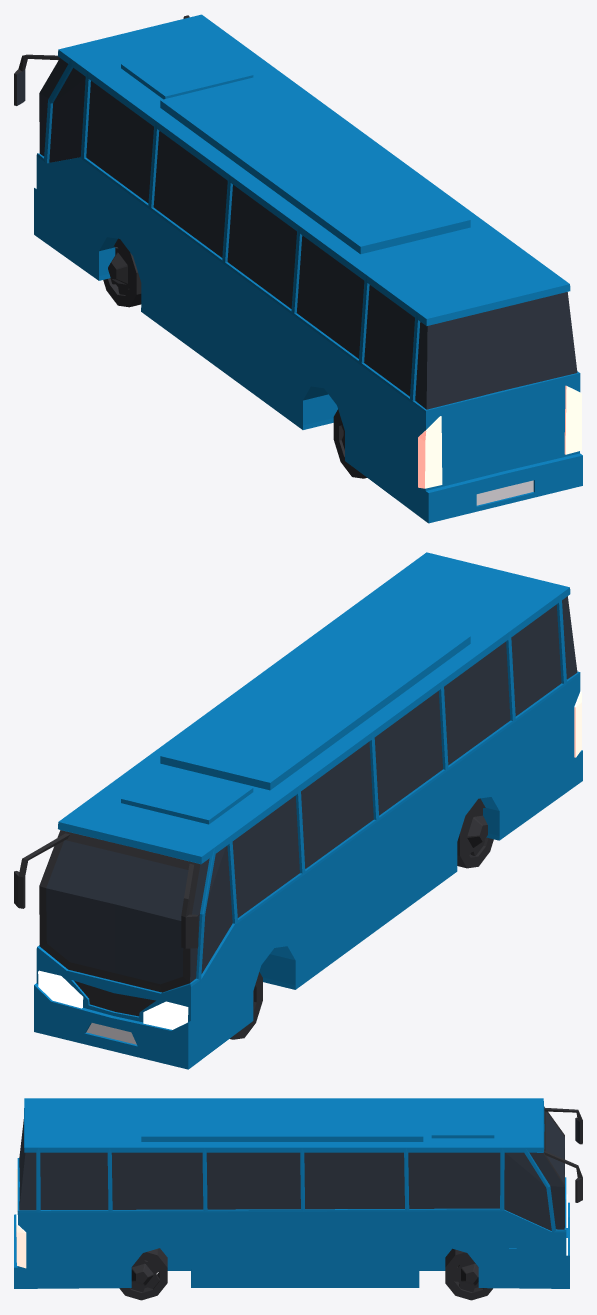
The model's file is rv_bus.glb.
3 renders of one model, top to bottom at view 1: azimuth 30°, elevation 25°; view 2: azimuth 150°, elevation 25°; view 3: azimuth 270°, elevation 25°, orthographic. The views are drawn at different scales.
Visible parts, largest first — view 1: Body, WheelFL; view 2: Body, WheelRL; view 3: Body, WheelRR, WheelFR.
Boxes of the visible parts, x1,y1,x2,y2 form: Body: (14, 14, 582, 523); WheelFL: (103, 238, 141, 307); Body: (14, 552, 582, 1069); WheelRL: (457, 798, 493, 868); Body: (14, 1098, 582, 1288); WheelRR: (119, 1248, 167, 1300); WheelFR: (445, 1248, 492, 1300).
Bounding box in the file's own units: 2.5 × 2.96 × 9.5.
